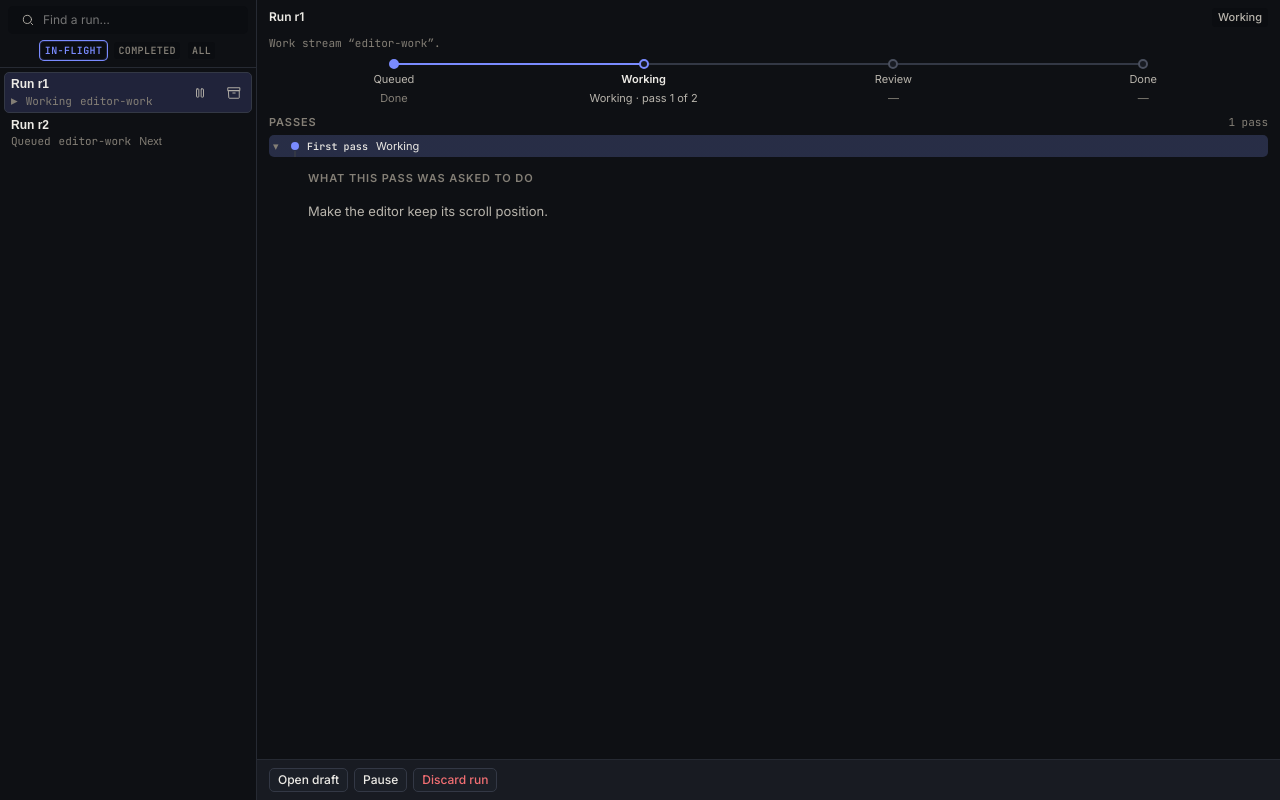
what the rail remembers › GRH-FR-WDSH: a view that admits nothing selects nothing
Step 1. Type "zzz" into the search field named "Filter runs" → (139, 20), box top-left (43, 11), bottom-right (235, 29)
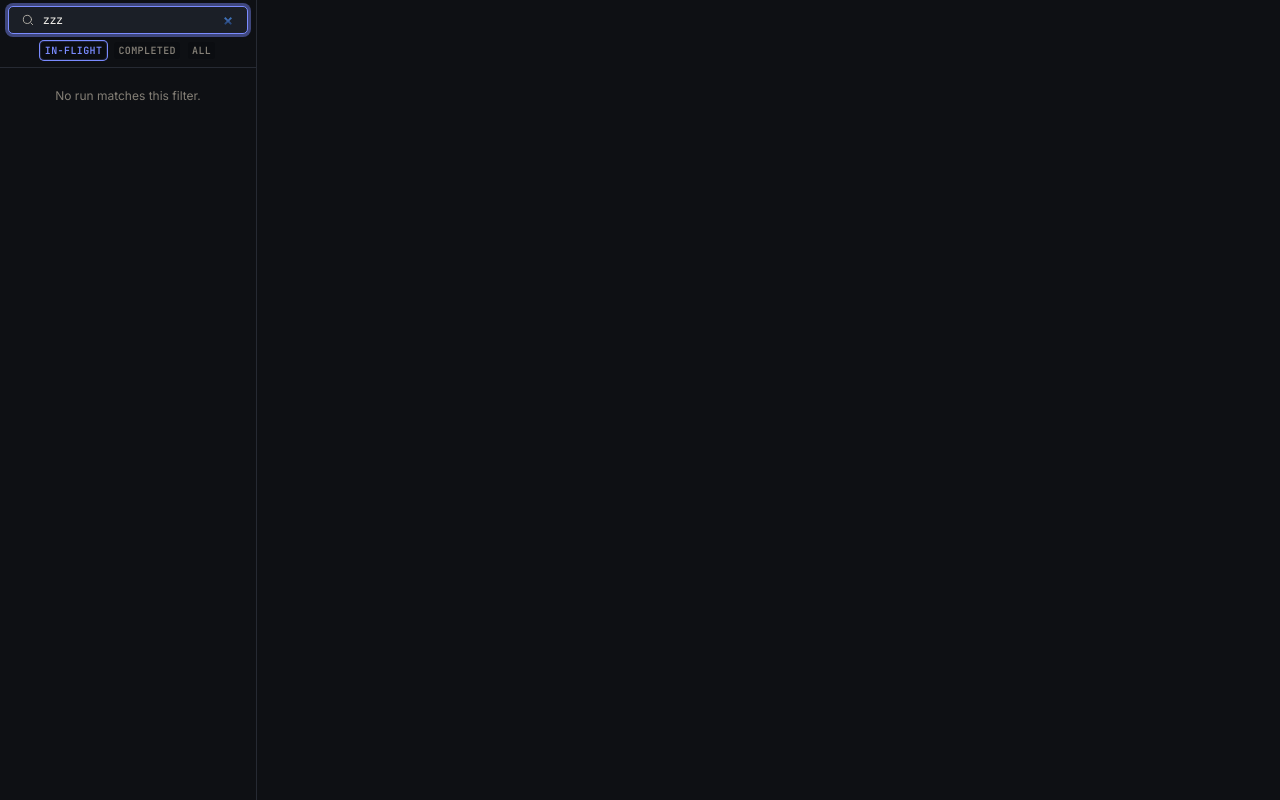
Check: the text with test id "graduation-provenance" is gone
